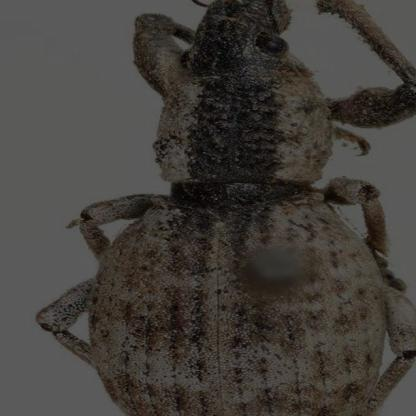rice-bug: (67, 0, 408, 416)
